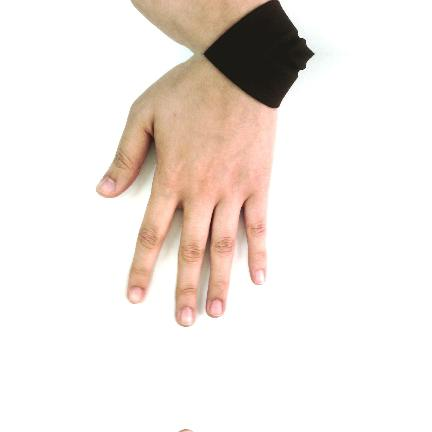Nail: (95, 176, 116, 196), (179, 306, 194, 326), (127, 287, 143, 305), (208, 299, 222, 316), (255, 268, 265, 285), (182, 430, 193, 432)
